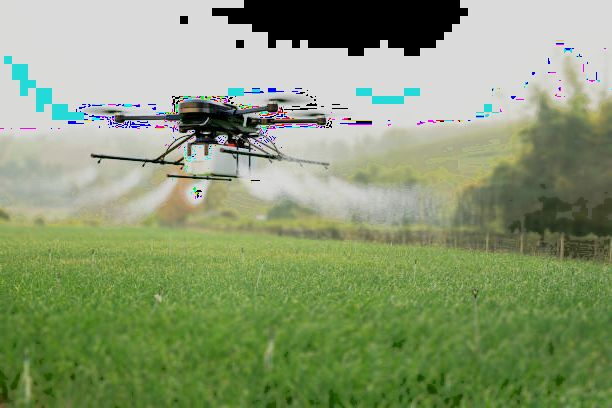Drone: (93, 93, 330, 151)
